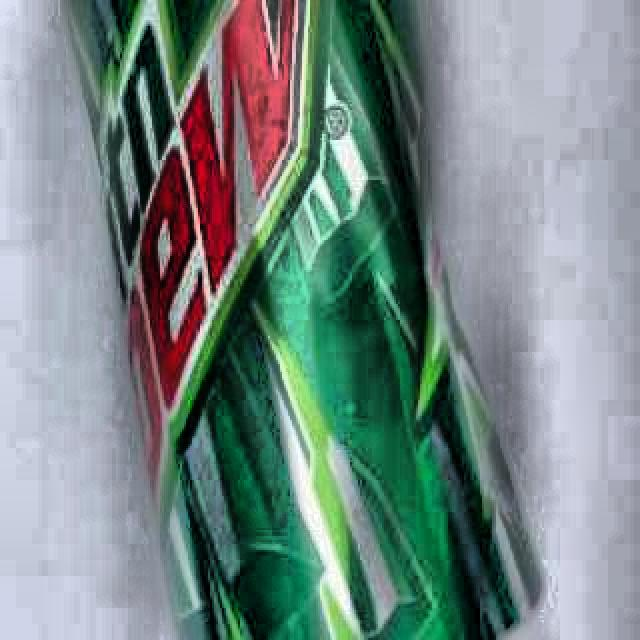metal: (59, 0, 552, 640)
